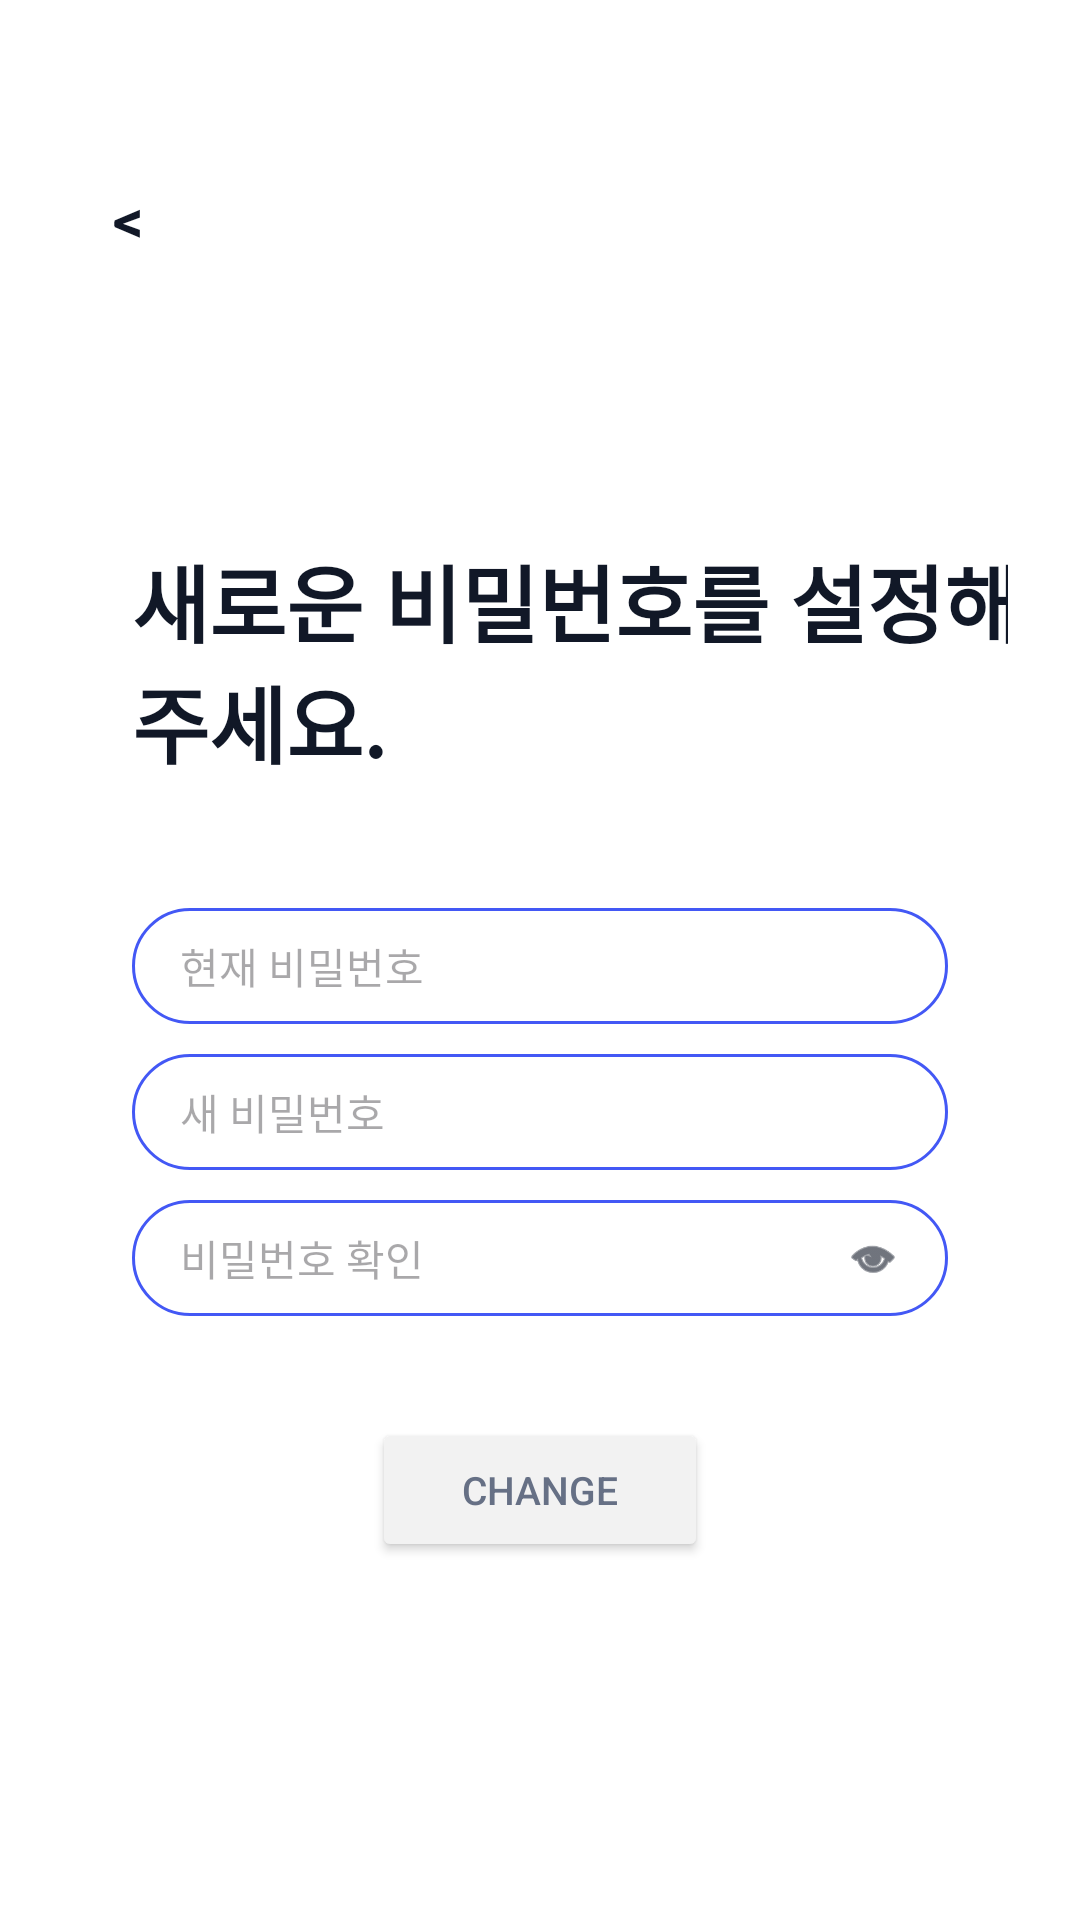

Icon click points for this 1080px x 1920px phone screenshot, format (x,y):
view: (873,1259)
